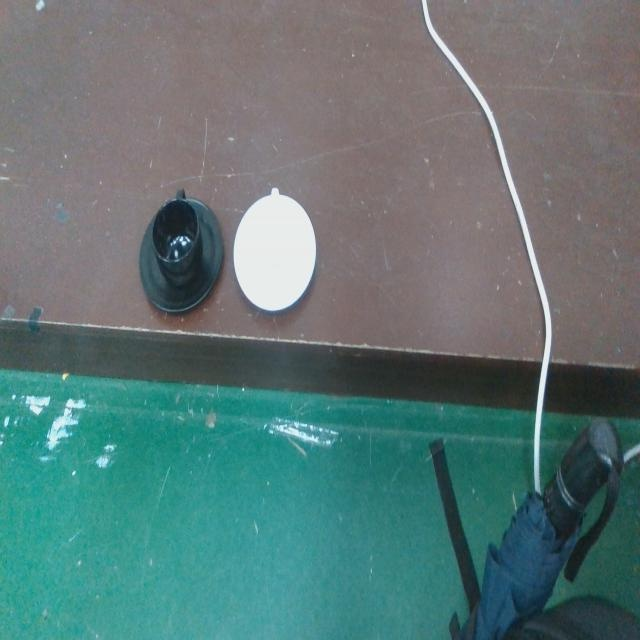black: (138, 186, 226, 319)
white: (231, 183, 318, 316)
